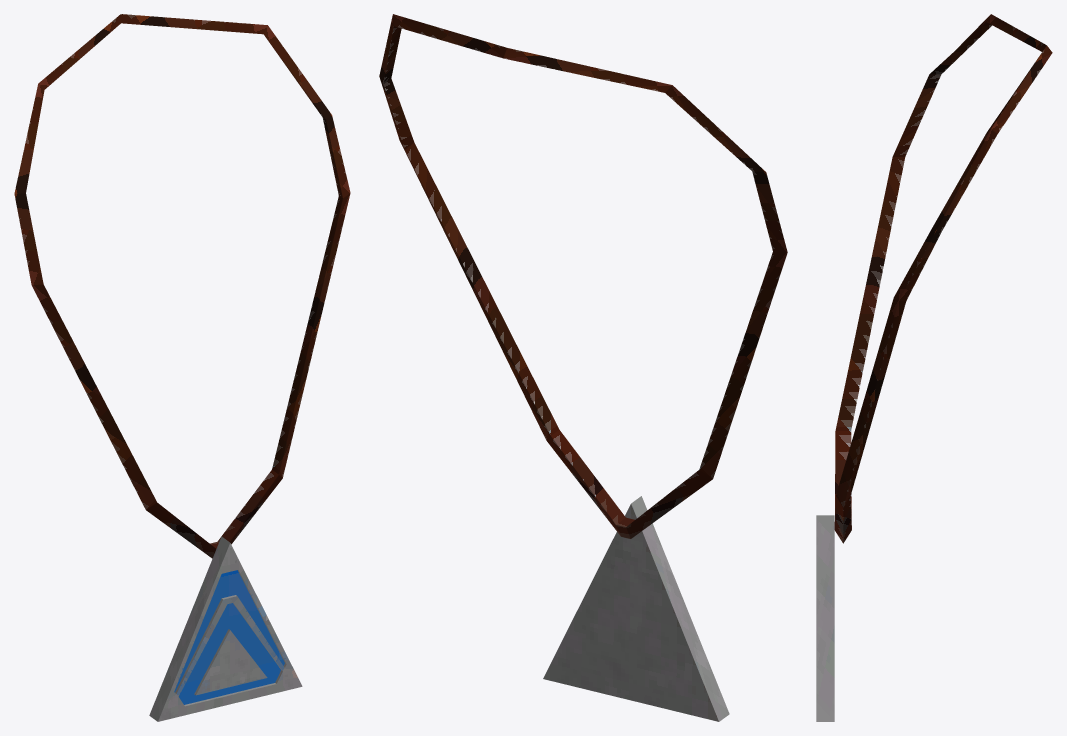
The model's file is atf_jedi_dark_side_amulet_l0.fbx.
3 renders of one model, left to right at view 1: azimuth 30°, elevation 25°; view 2: azimuth 150°, elevation 25°; view 3: azimuth 270°, elevation 25°, orthographic. The views are drawn at different scales.
Visible parts, largest first — view 1: mesh_node; view 2: mesh_node; view 3: mesh_node.
Boxes of the visible parts, <box> form: mesh_node: <box>14,14,350,721</box>; mesh_node: <box>379,14,787,721</box>; mesh_node: <box>816,14,1052,721</box>.
Bounding box in the file's own units: 0.1045 × 0.191 × 0.0639.
